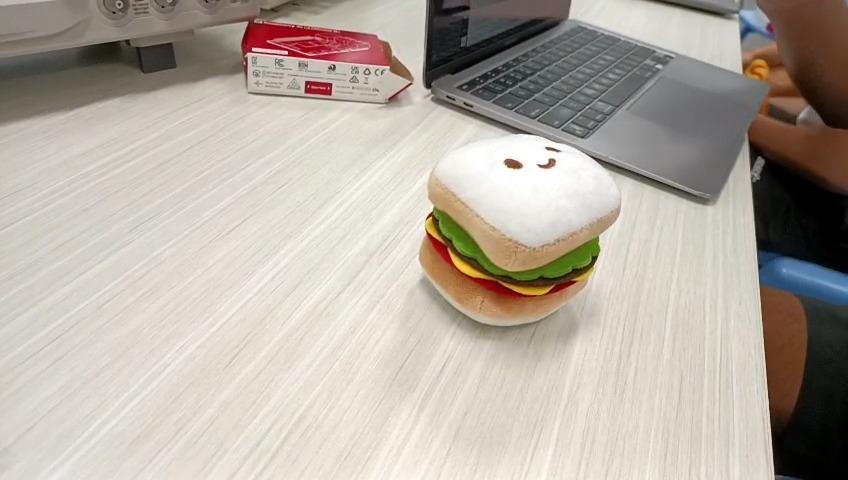objects: (422, 130, 624, 327)
